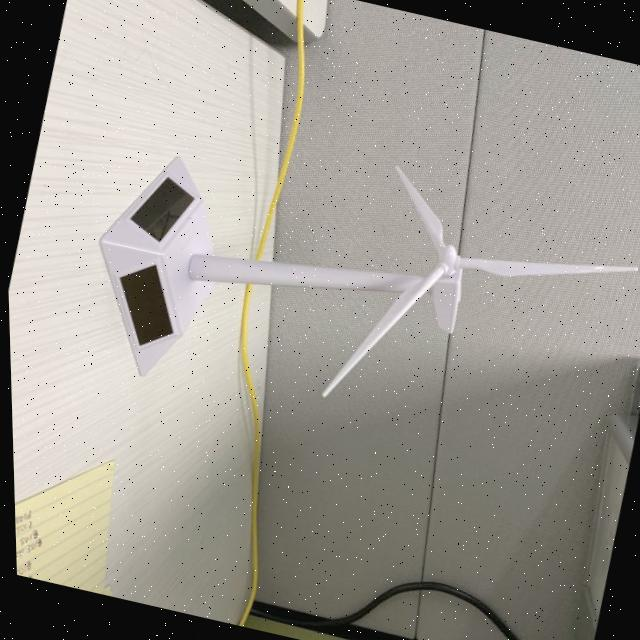solid-blade: (318, 266, 440, 396), (393, 165, 441, 247), (456, 257, 635, 276)
